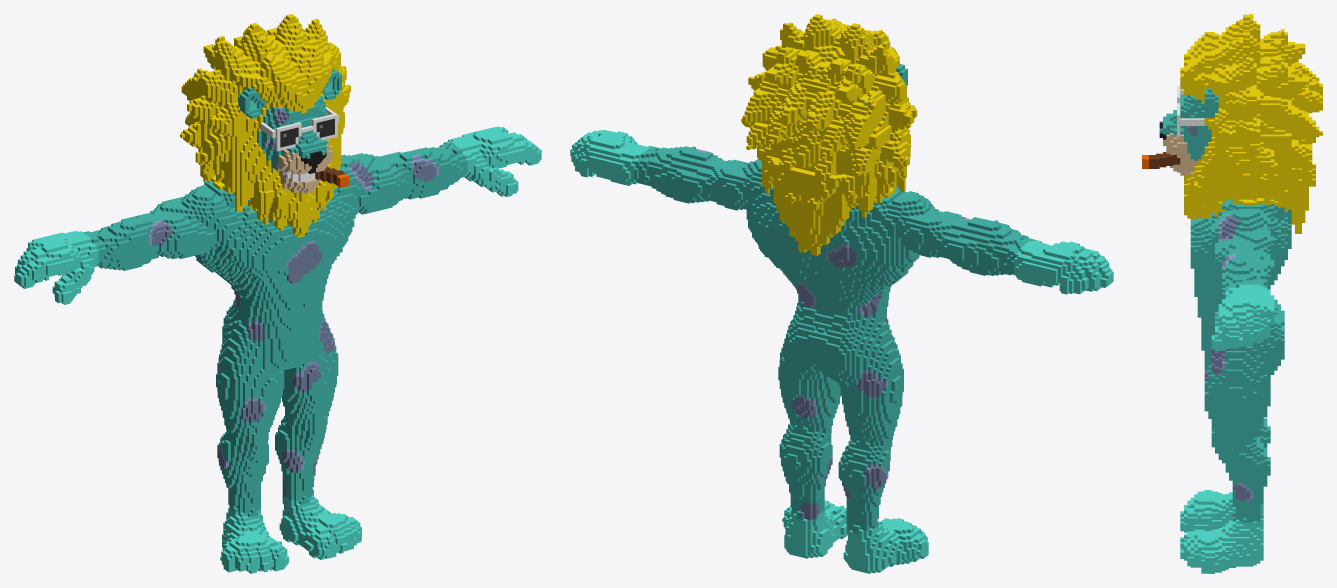
File: 16-Bt2SiKdL.glb
3 views of the same model, side by side, from view 1: azimuth 30°, elevation 25°; view 2: azimuth 150°, elevation 25°; view 3: azimuth 270°, elevation 25° (orthographic). The views are drawn at different scales.
Parts seen in each view (by area): view 1: cigar; view 2: cigar; view 3: cigar.
Part boxes in pixels (bbox=[...]): cigar: bbox=[14, 14, 541, 573]; cigar: bbox=[570, 14, 1113, 573]; cigar: bbox=[1142, 14, 1322, 573].
Size of the model in its own units: 17.2 by 16.5 by 5.2.
4 materials, 4 textured.
